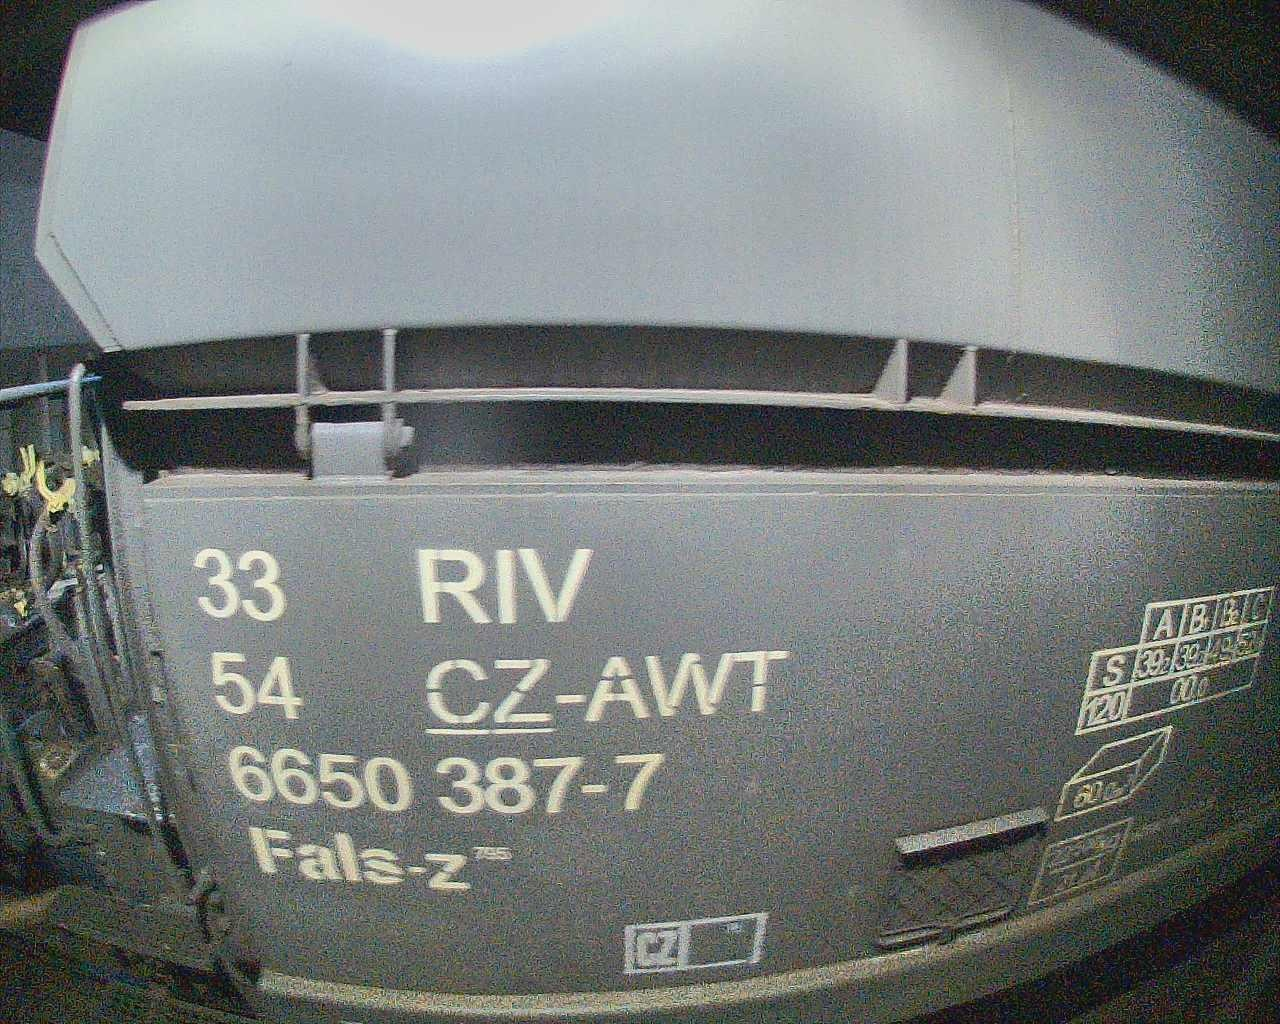UIC: (187, 540, 799, 897)
